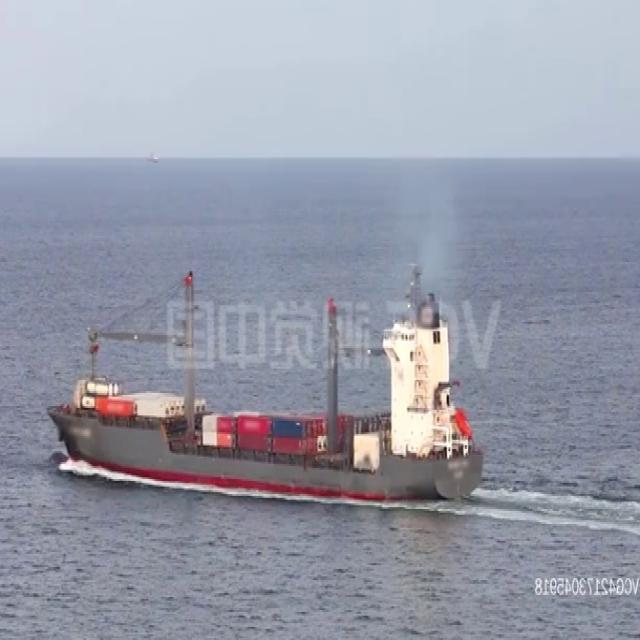cargoship: (55, 255, 487, 496)
